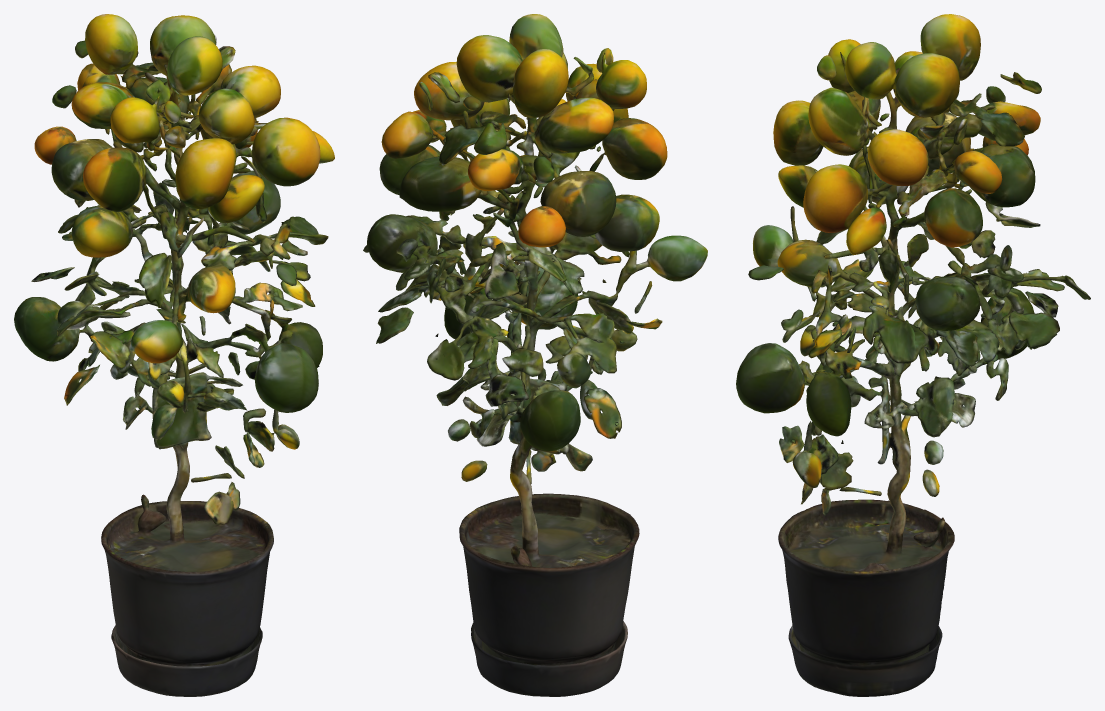
The model's file is tree0025_dup.gltf.
3 views of the same model, side by side, from view 1: azimuth 30°, elevation 25°; view 2: azimuth 150°, elevation 25°; view 3: azimuth 270°, elevation 25° (orthographic). The views are drawn at different scales.
Parts seen in each view (by area): view 1: Mesh_0; view 2: Mesh_0; view 3: Mesh_0.
Boxes of the visible parts, x1,y1,x2,y2 form: Mesh_0: [14, 14, 334, 696]; Mesh_0: [363, 14, 707, 696]; Mesh_0: [736, 14, 1090, 696].
Bounding box in the file's own units: 0.8698 × 2 × 1.01.
Materials: 1 (1 with a texture image).
